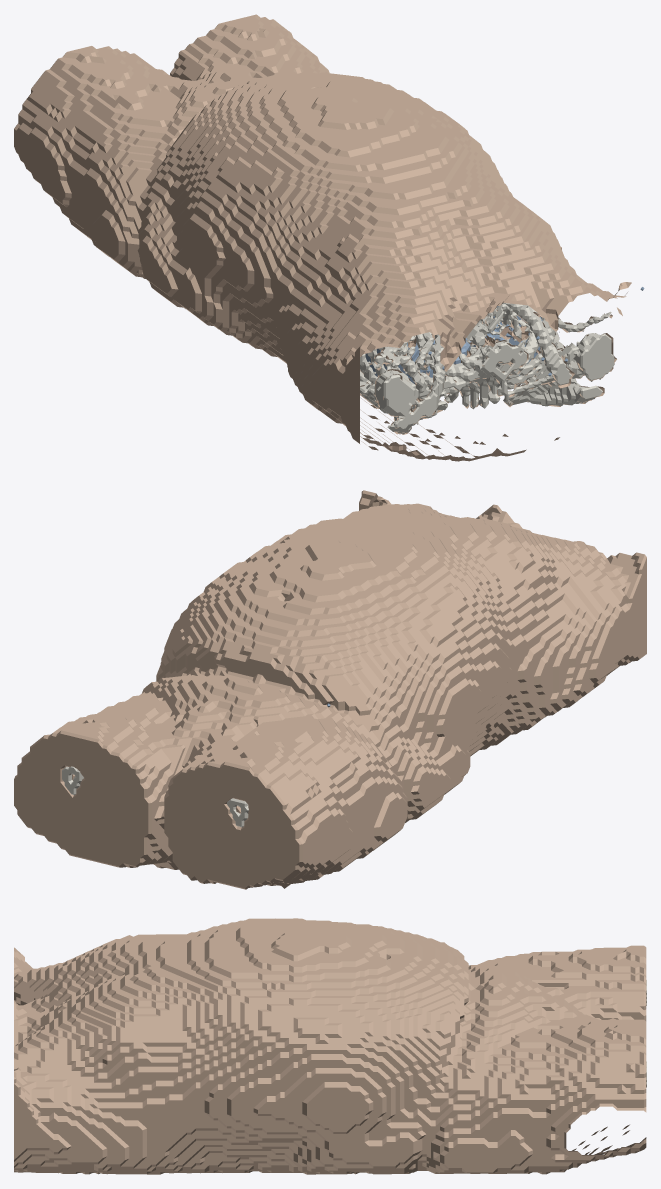
File: chestabdopelvis.glb
3 renders of one model, top to bottom at view 1: azimuth 30°, elevation 25°; view 2: azimuth 150°, elevation 25°; view 3: azimuth 270°, elevation 25°, orthographic. The views are drawn at different scales.
Parts seen in each view (by area): view 1: world; view 2: world; view 3: world.
Part boxes in pixels (box(x1,y1,x2,y2)): world: box(14, 14, 644, 461); world: box(14, 490, 646, 889); world: box(14, 918, 646, 1174).
Bounding box in the file's own units: 411 × 312 × 856.
